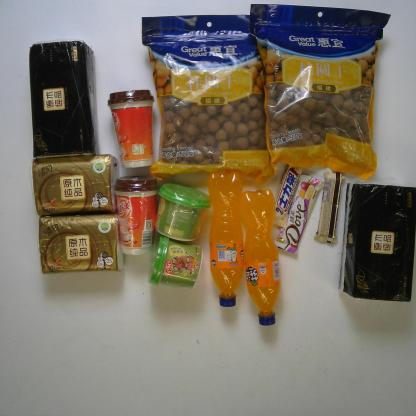Chocolate: (269, 173, 325, 255), (266, 155, 308, 228), (313, 169, 344, 247)
Dried Food: (248, 2, 391, 181), (141, 10, 286, 184)
Drink: (236, 188, 283, 327), (207, 166, 248, 309)
Instant Drink: (104, 88, 156, 170), (110, 174, 160, 257), (150, 183, 212, 242), (144, 233, 206, 291)
Tissue: (330, 180, 416, 303), (28, 39, 100, 162), (31, 151, 118, 216), (36, 212, 127, 274)
